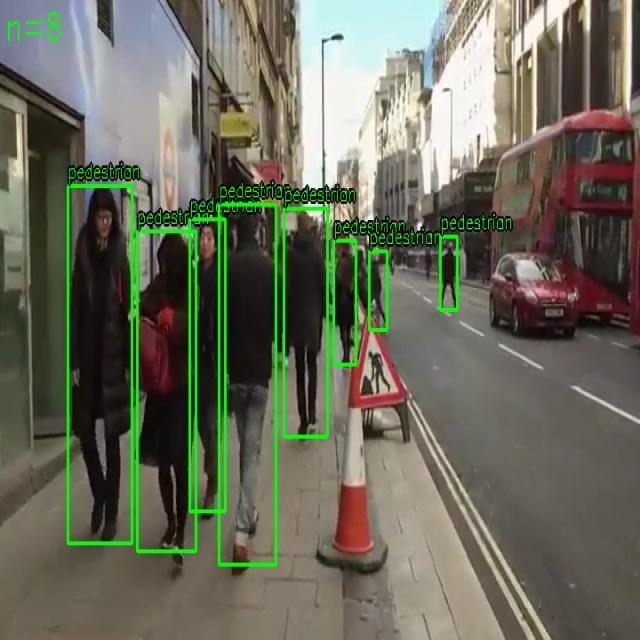person: (68, 185, 132, 544), (218, 204, 276, 566), (136, 230, 196, 552), (189, 218, 226, 512), (284, 208, 328, 438), (334, 240, 356, 366), (369, 250, 387, 330), (440, 236, 458, 311)
